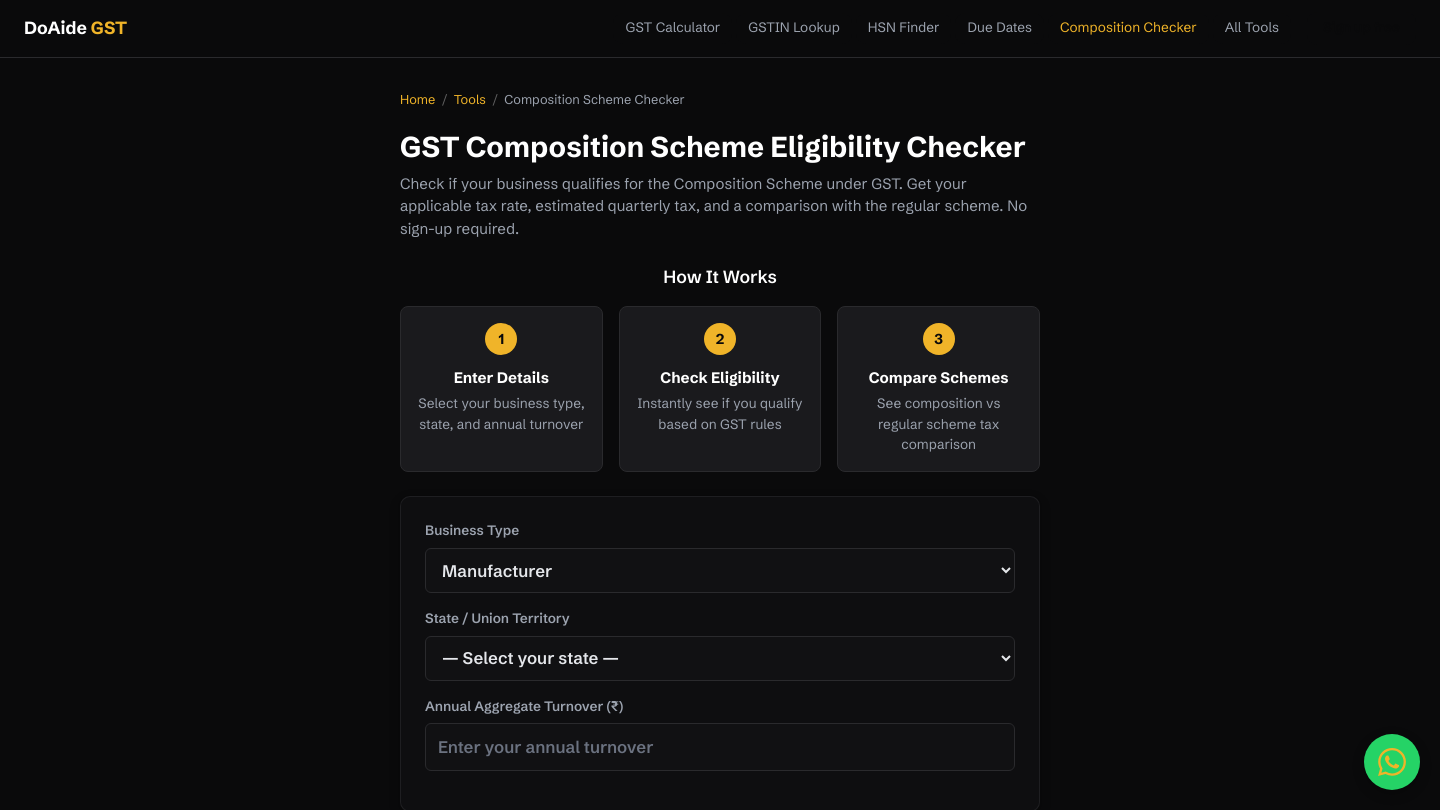
CompositionSchemeCheckerPage › shows 6% rate for eligible service providers
Select "Service Provider" in the dropdown labelled "Business Type" at (720, 571), box top-left (425, 548), bottom-right (1015, 593)
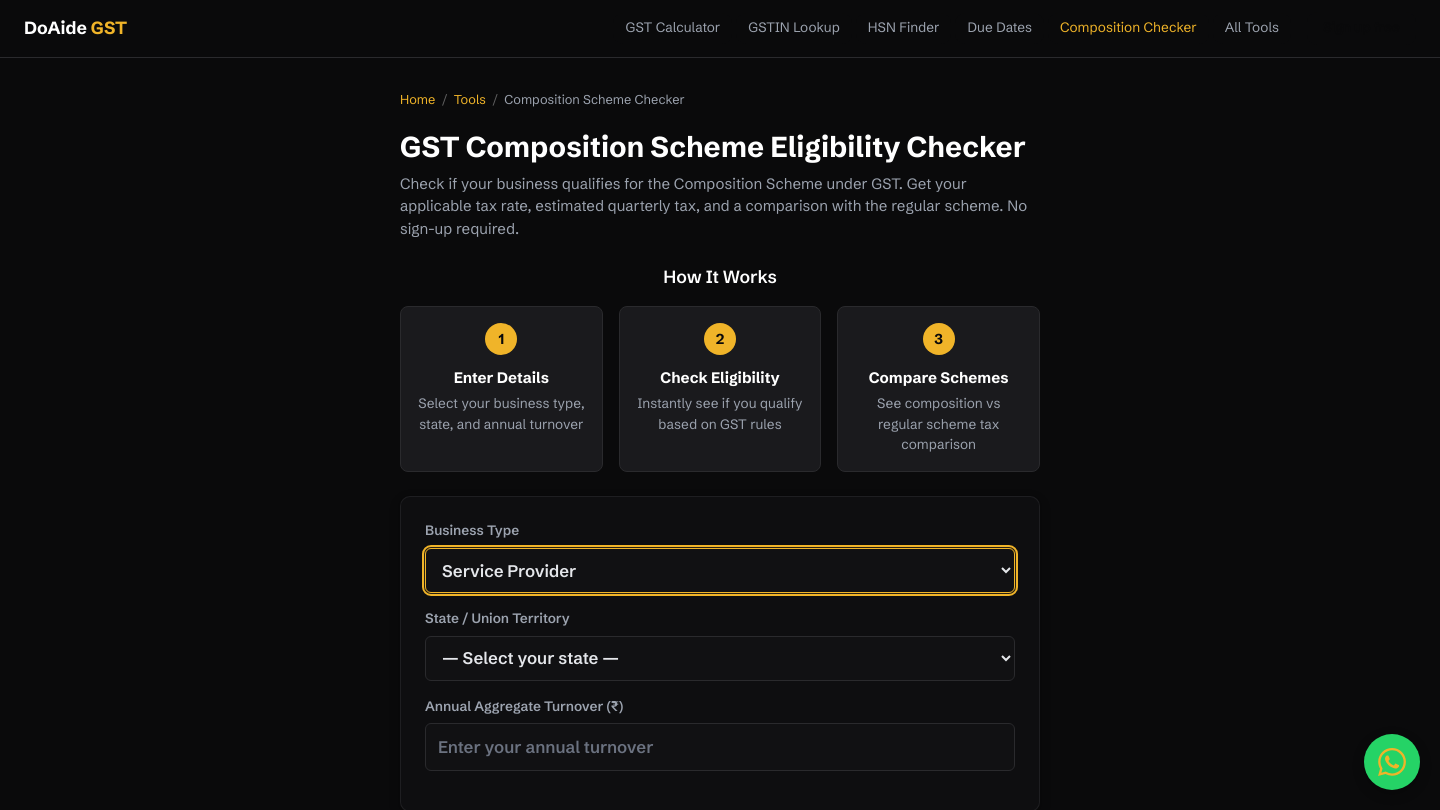
Select "Karnataka" in the dropdown labelled "State / Union Territory" at (720, 658), box top-left (425, 636), bottom-right (1015, 681)
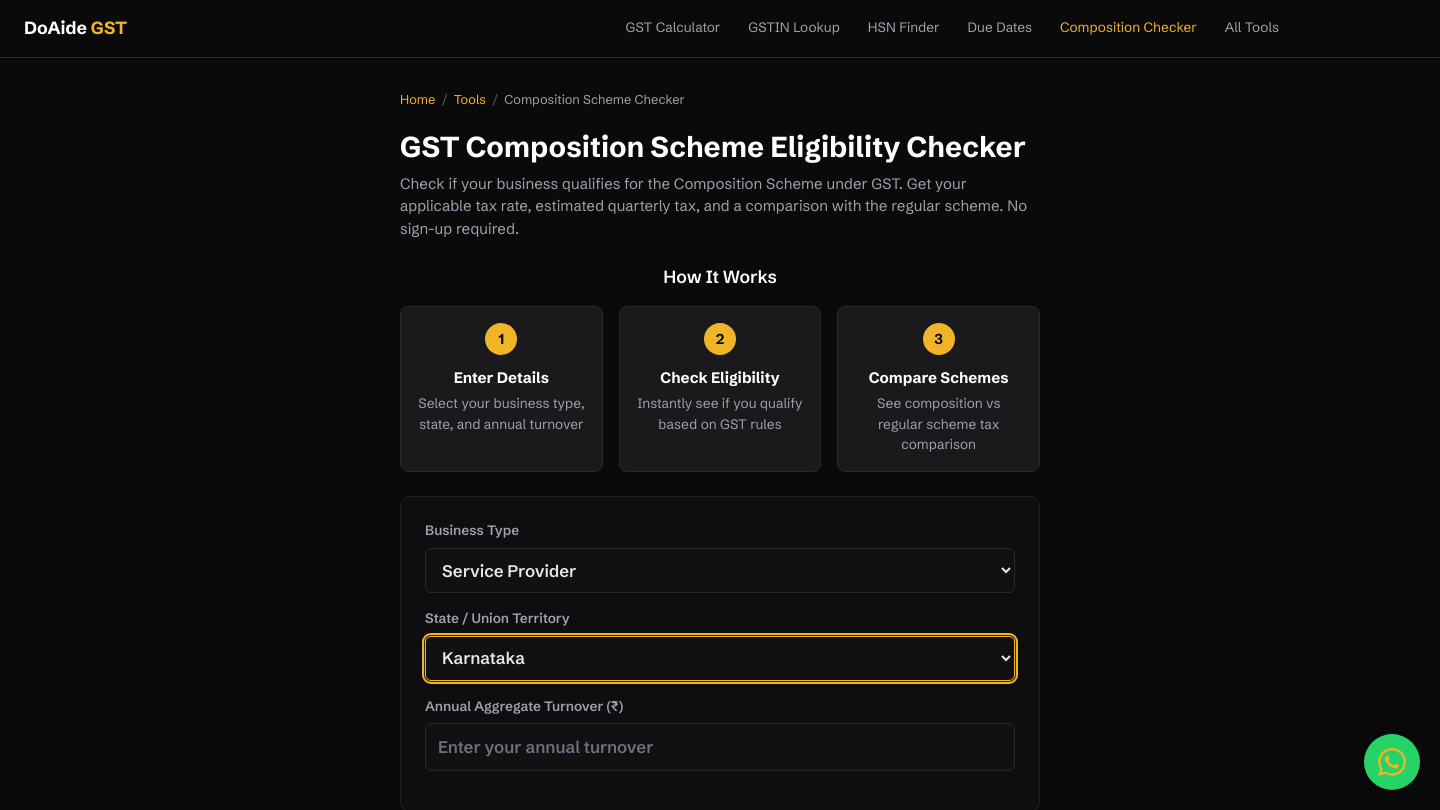
Type "4000000" into the number field labelled "Annual Aggregate Turnover (₹)" at (720, 747), box top-left (425, 723), bottom-right (1015, 771)
(page scrolled)
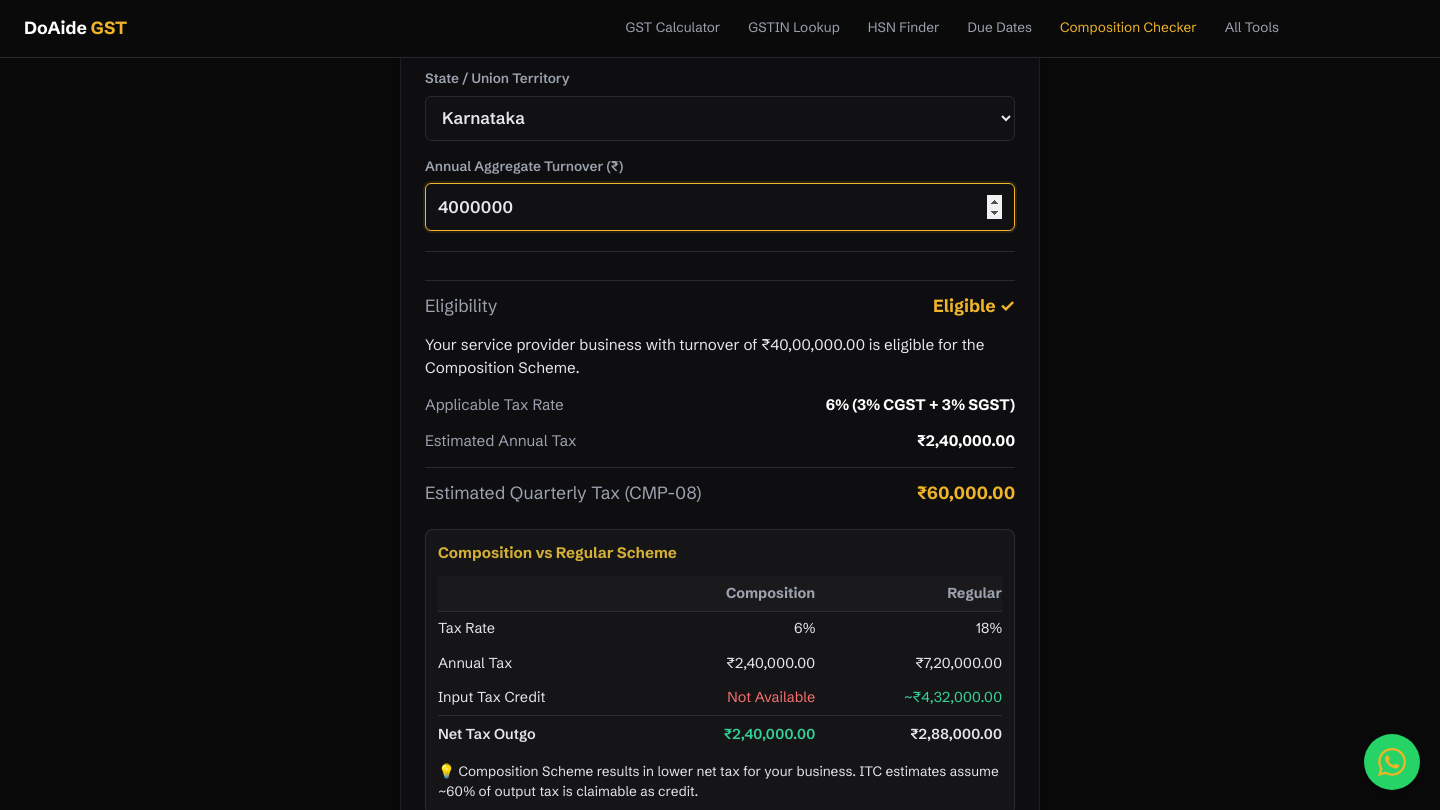
Check: the text "Eligible ✓" is shown, box top-left (933, 293), bottom-right (1015, 320)
Check: the text "6% (3% CGST + 3% SGST)" is shown, box top-left (826, 394), bottom-right (1015, 417)
